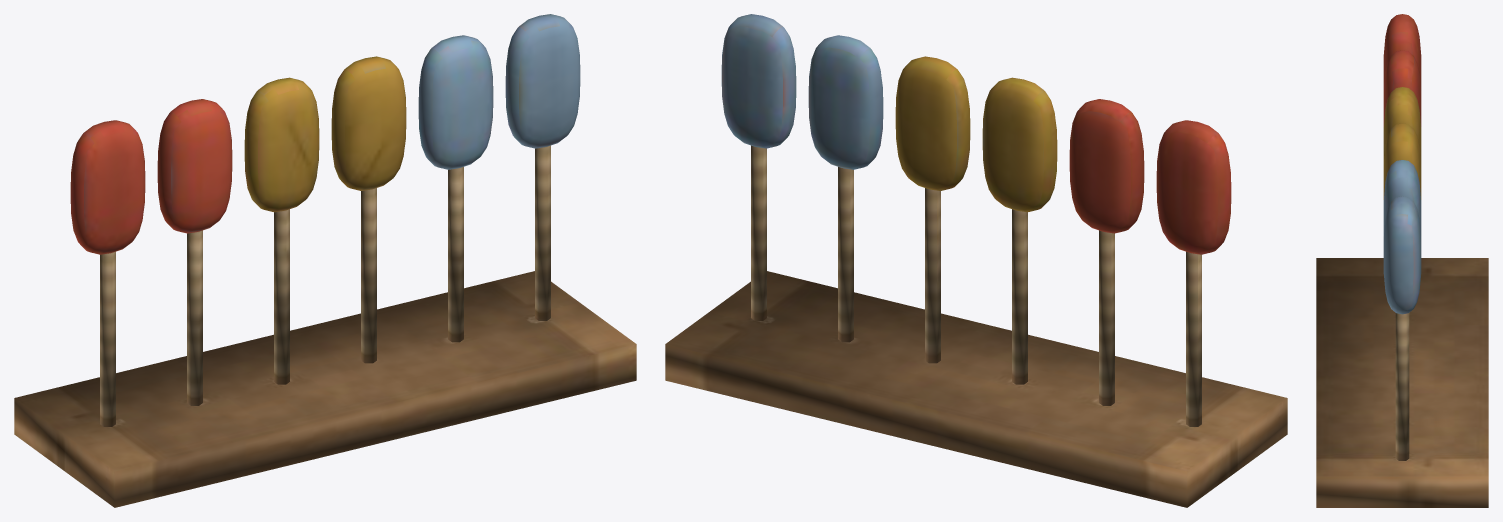
The model's file is glove_dryer.glb.
3 renders of one model, left to right at view 1: azimuth 30°, elevation 25°; view 2: azimuth 150°, elevation 25°; view 3: azimuth 270°, elevation 25°, orthographic. The views are drawn at different scales.
Visible parts, largest first — view 1: prop_glove_dryer_wood, prop_glove_dryer_felt; view 2: prop_glove_dryer_wood, prop_glove_dryer_felt; view 3: prop_glove_dryer_wood, prop_glove_dryer_felt.
Part boxes in pixels (left/top/right/bottom): prop_glove_dryer_wood: left=14, top=145, right=636, bottom=507; prop_glove_dryer_felt: left=70, top=14, right=580, bottom=254; prop_glove_dryer_wood: left=665, top=145, right=1287, bottom=507; prop_glove_dryer_felt: left=721, top=14, right=1231, bottom=254; prop_glove_dryer_wood: left=1316, top=258, right=1488, bottom=507; prop_glove_dryer_felt: left=1383, top=14, right=1421, bottom=314.
Bounding box in the file's own units: 1.2 × 0.74 × 0.4.
2 materials, 2 textured.
